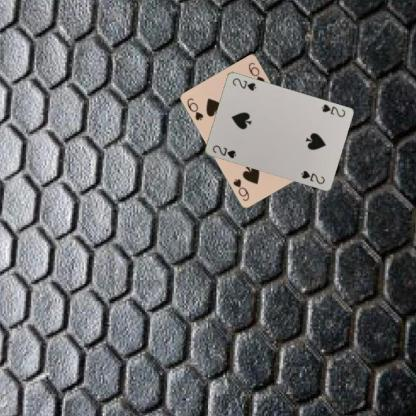2s: (210, 142, 237, 160), (318, 102, 346, 118)
6s: (185, 95, 204, 122)
